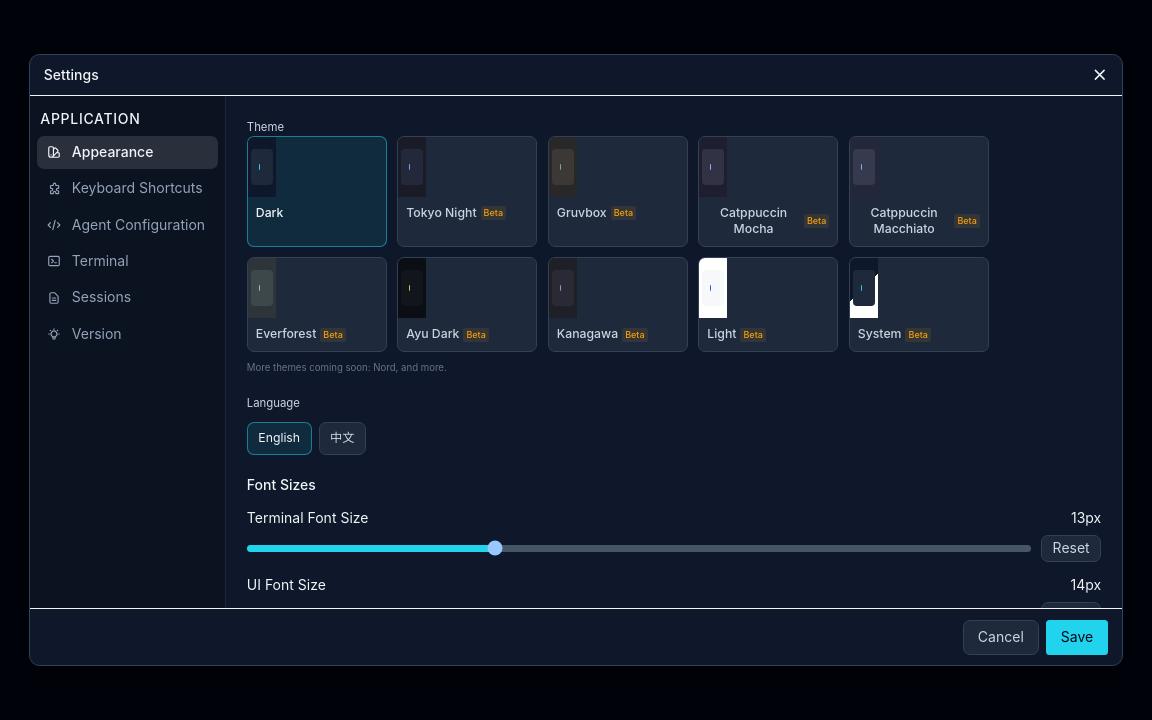
Test: SettingsModal loading indicators › disables remember idle baseline toggle when notifications are off
Click the button "Sessions": (127, 298) [37, 281, 218, 314]
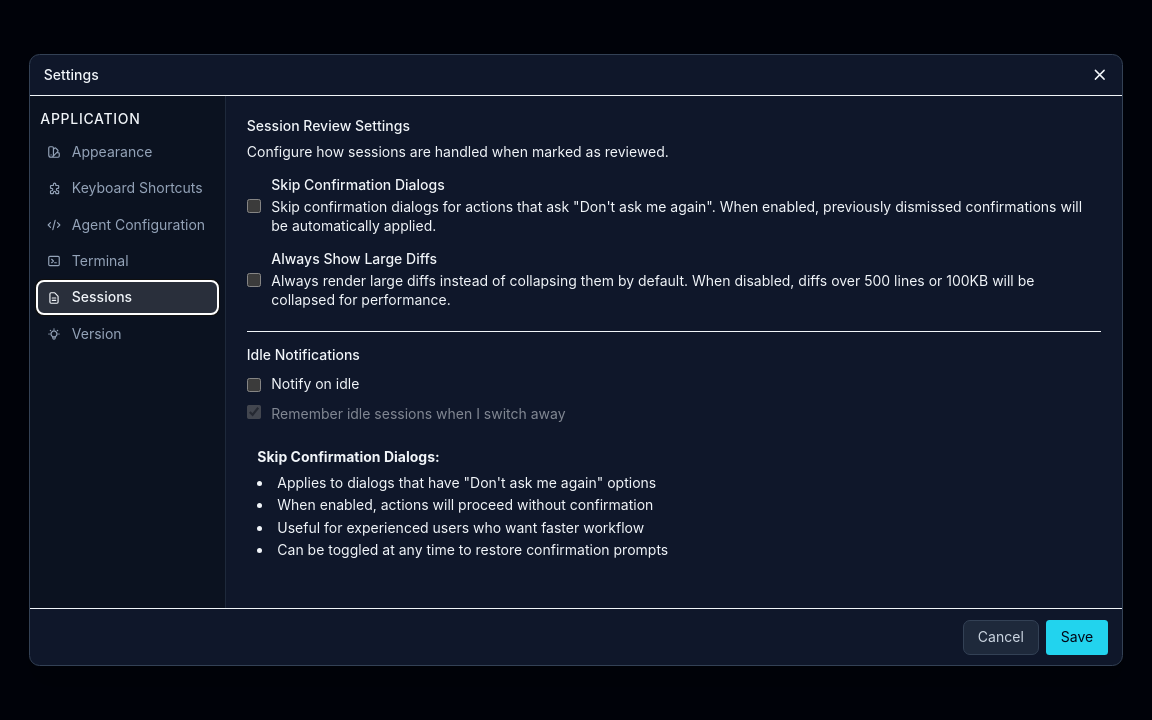
Check: the checkbox labelled "Remember idle sessions when I switch away" is disabled, box [247, 405, 261, 419]
